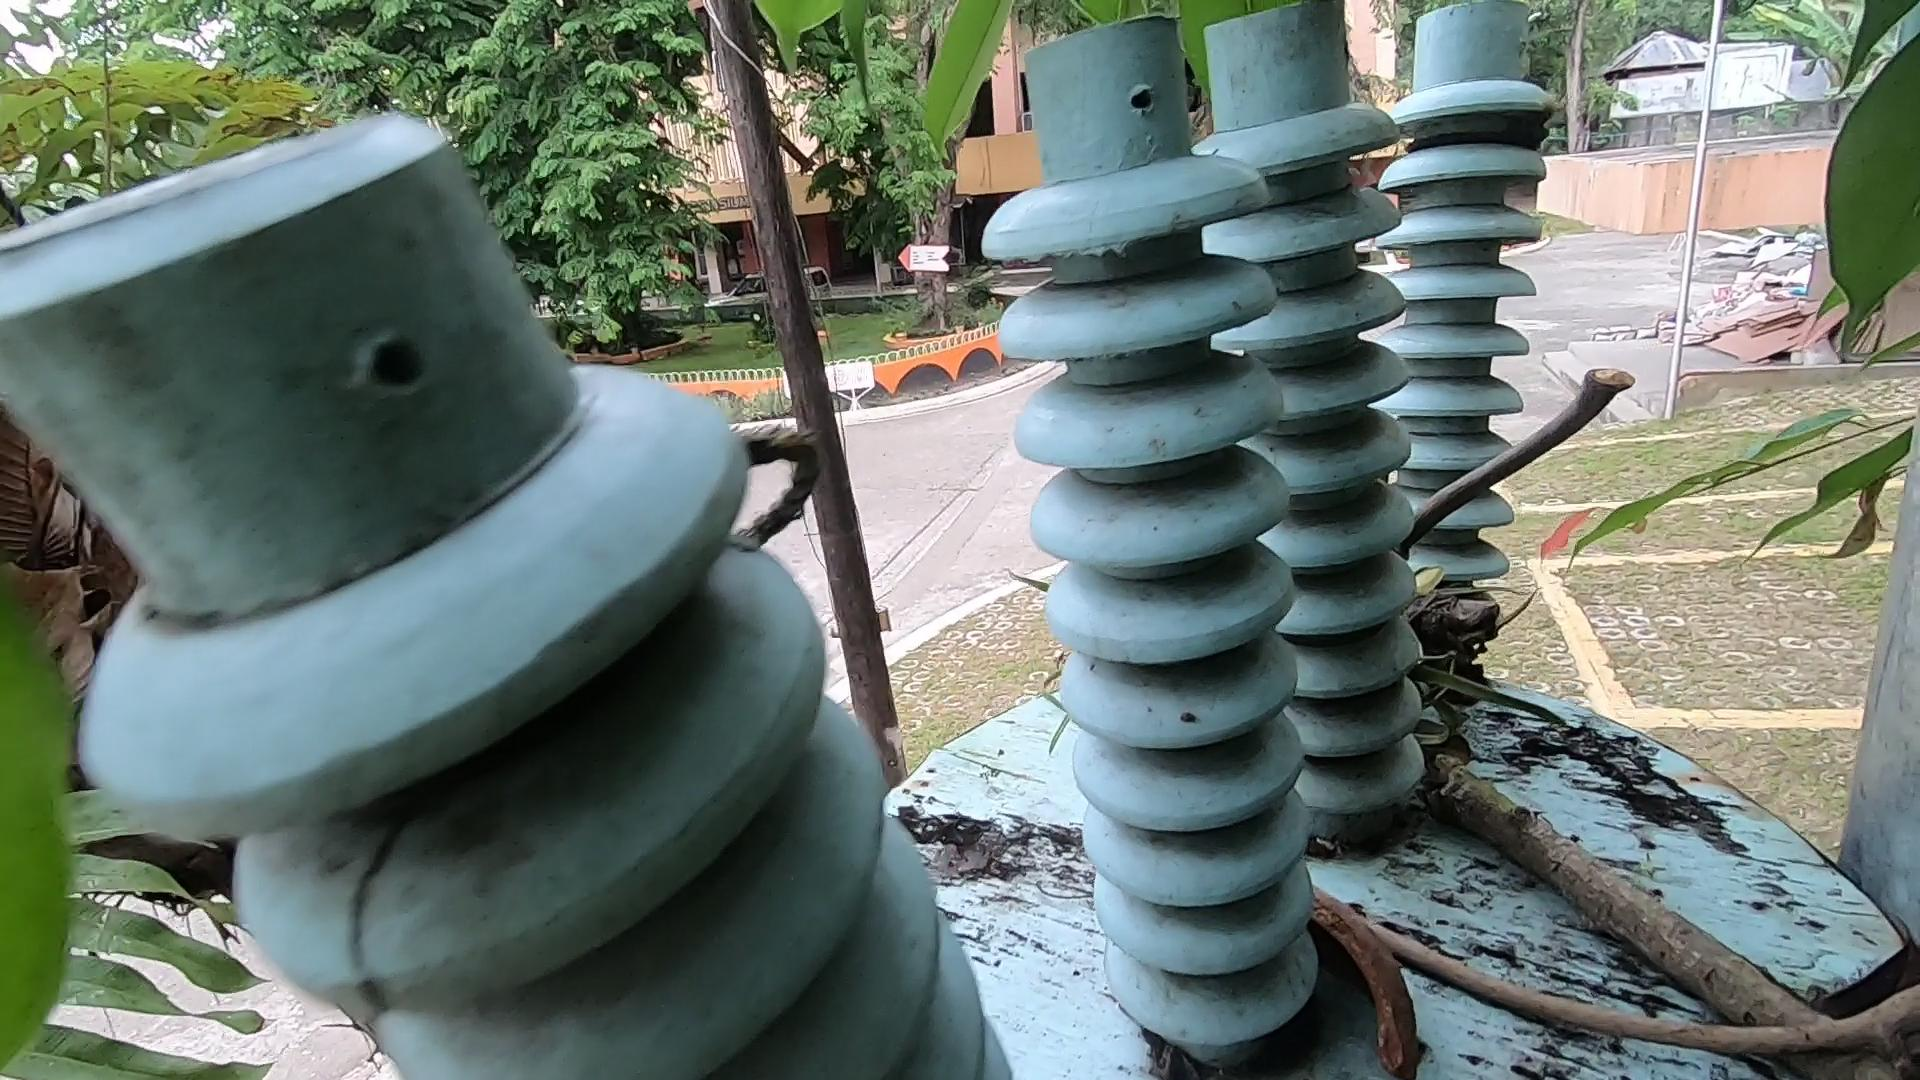branch with leaves: (1362, 571, 1851, 1051)
leaf: (1829, 915, 1920, 1011)
mahogany fruit: (1302, 874, 1437, 1080)
tree branch: (1324, 890, 1854, 1080), (1383, 249, 1654, 582)
